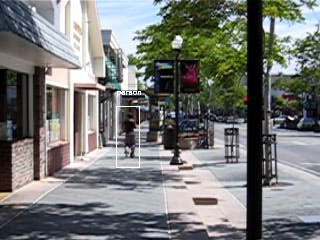person: (122, 112, 137, 159), (121, 112, 136, 159), (123, 112, 138, 159), (122, 111, 137, 158), (122, 113, 137, 160)
target_negative: (184, 31, 276, 207), (53, 119, 146, 169), (227, 14, 300, 56), (16, 193, 38, 239), (129, 231, 153, 233)
